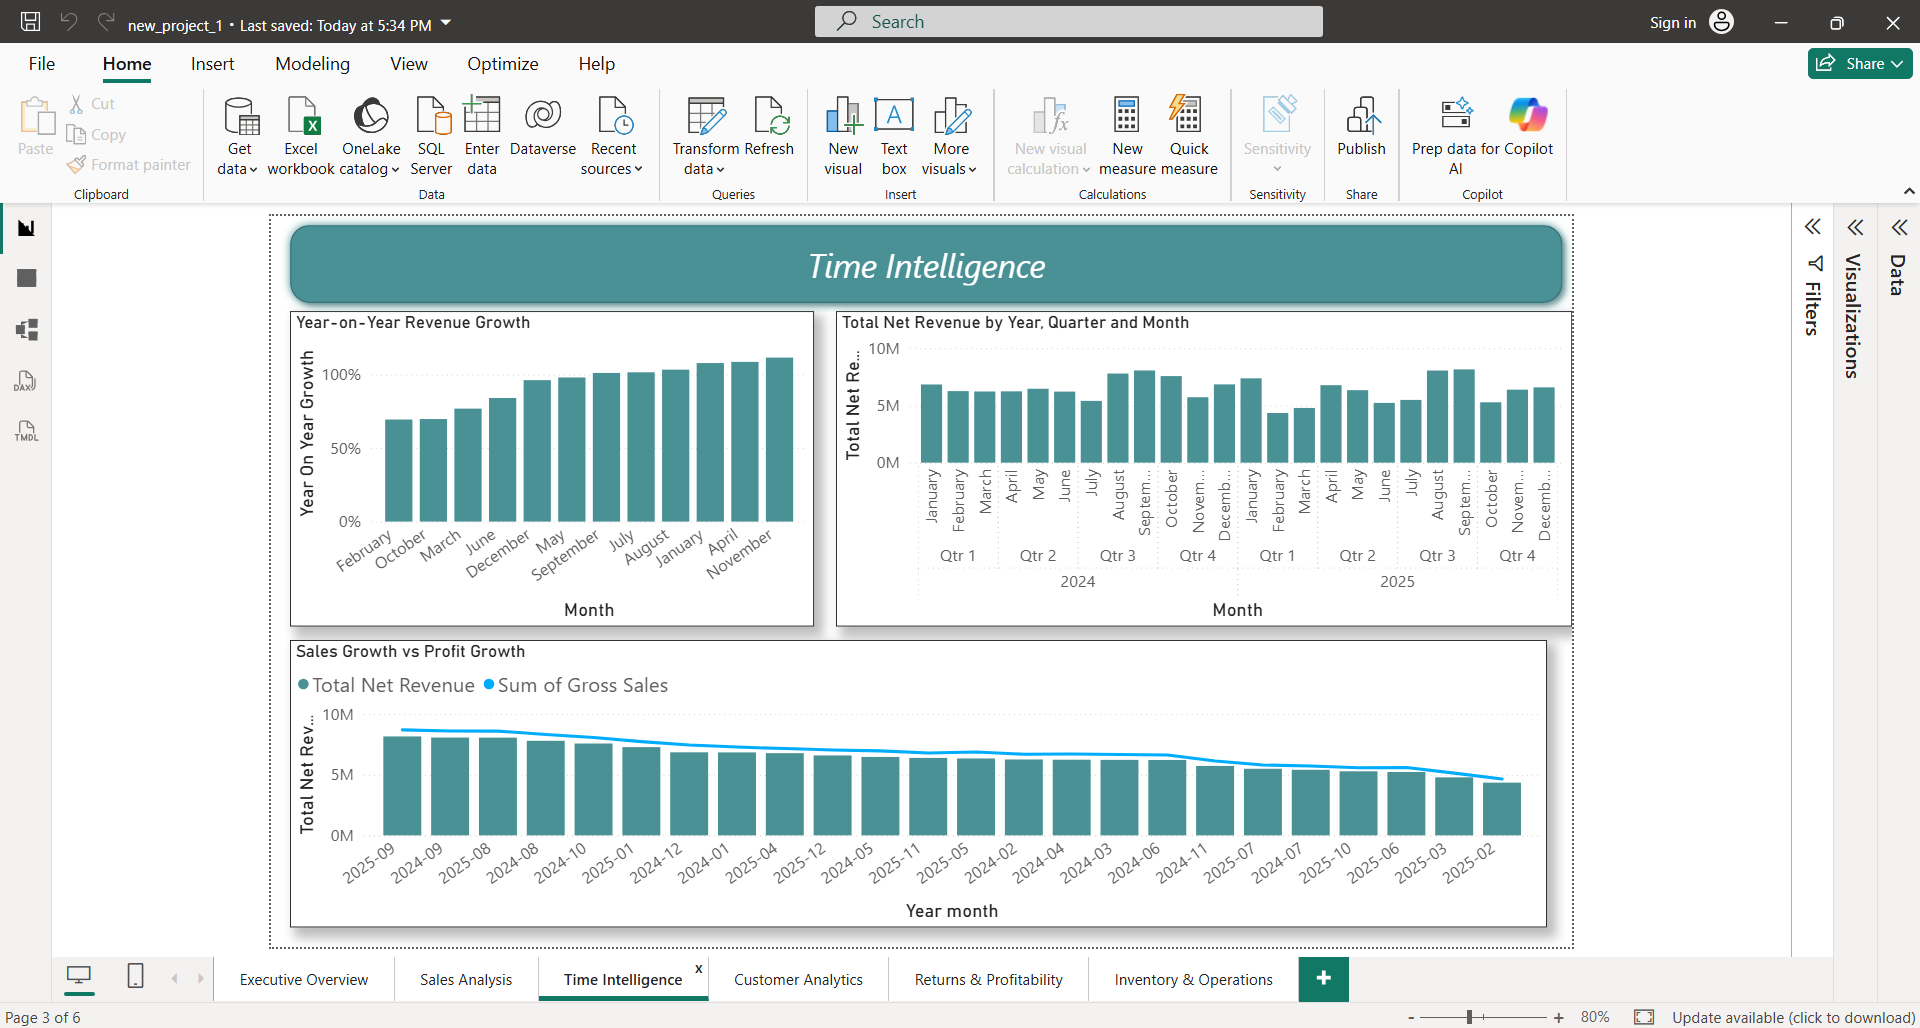

The page's visual inventory and layout, read from the dashboard file:
{"tool":"powerbi","page":{"name":"Time Intelligence","canvas":[1280,720],"ordinal":2},"visuals":[{"type":"clusteredColumnChart","fields":{"Category":["Orders_Raw.OrderDate.Variation.Date Hierarchy.Year","Orders_Raw.OrderDate.Variation.Date Hierarchy.Quarter","Orders_Raw.OrderDate.Variation.Date Hierarchy.Month"],"Y":["Orders_Raw.Total Net Revenue"]},"box":[555.7,94.3,724.3,310],"z":0},{"type":"lineStackedColumnComboChart","title":"Year-on-Year Revenue Growth","fields":{"Y":["Orders_Raw.Year On Year Growth"],"Category":["Orders_Raw.OrderDate.Variation.Date Hierarchy.Month"]},"box":[18.6,94.3,515.7,310],"z":1000},{"type":"lineStackedColumnComboChart","title":"Total Net Revenue and Sum of Gross Sales","fields":{"Category":["Orders_Raw.Year month"],"Y":["Orders_Raw.Total Net Revenue"],"Y2":["Sum(Orders_Raw.Gross Sales)"]},"box":[18.6,417.1,1237.1,282.9],"z":2000},{"type":"shape","box":[10,0,1270,94.3],"z":3000}]}

Visuals, with their boxes on the page's 1280x720 design canvas (x1, y1, x2, y2). These are canvas units, not pixel positions in the 1920x1028 screenshot, which may show the page scaled, cropped or inside an application window:
clusteredColumnChart - Orders_Raw.OrderDate.Variation.Date Hierarchy.Year x Orders_Raw.OrderDate.Variation.Date Hierarchy.Quarter: 556 94 1280 404
"Year-on-Year Revenue Growth" lineStackedColumnComboChart: 19 94 534 404
"Total Net Revenue and Sum of Gross Sales" lineStackedColumnComboChart: 19 417 1256 700
shape: 10 0 1280 94
